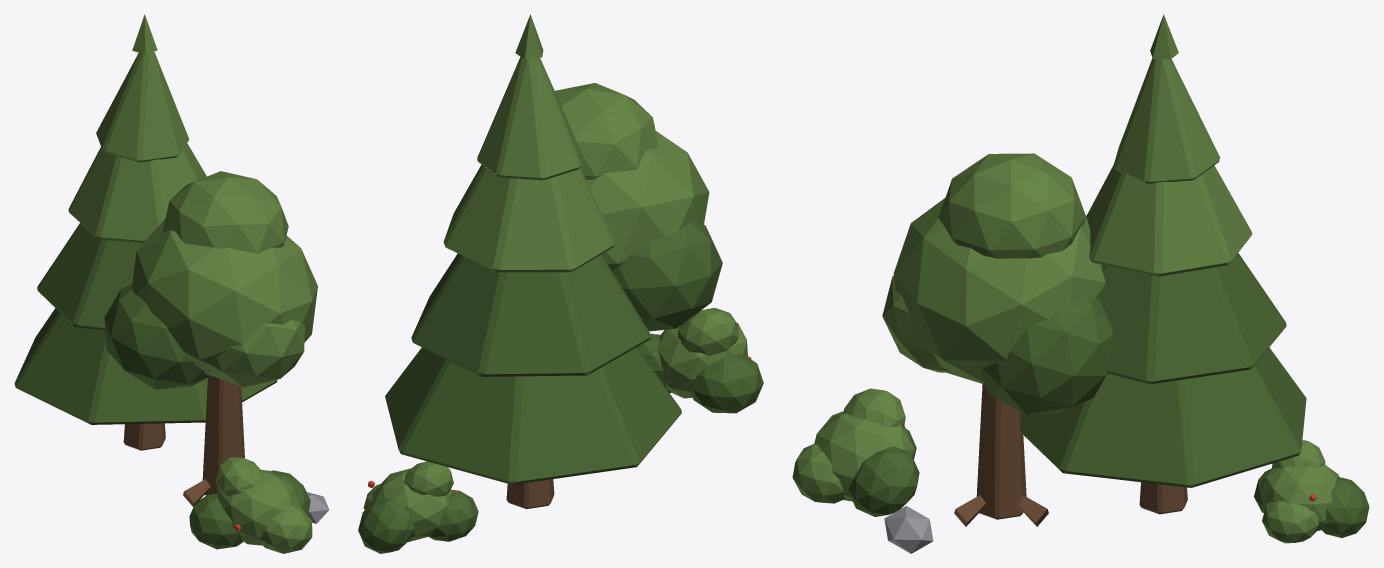
The model's file is Camp Trees.fbx.
The picture shows the model from 3 angles, left to right: view 1: azimuth 30°, elevation 25°; view 2: azimuth 150°, elevation 25°; view 3: azimuth 270°, elevation 25°; orthographic projection. The views are drawn at different scales.
Parts seen in each view (by area): view 1: Camp Trees; view 2: Camp Trees; view 3: Camp Trees.
Part boxes in pixels (left/top/right/bottom): Camp Trees: left=14, top=14, right=329, bottom=553; Camp Trees: left=358, top=14, right=763, bottom=553; Camp Trees: left=792, top=14, right=1369, bottom=553.
Bounding box in the file's own units: 1.3 × 2.38 × 2.49.
